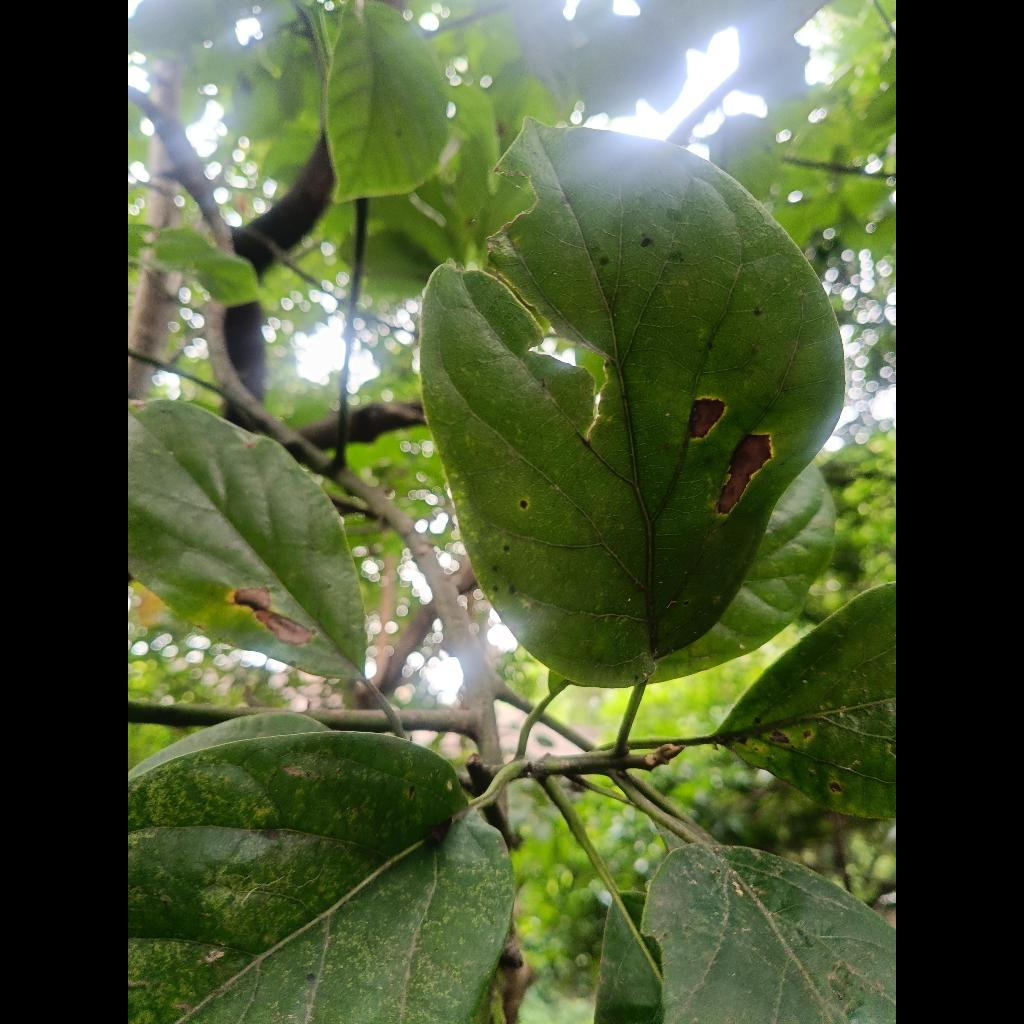Pest Infested: (421, 119, 843, 688)
